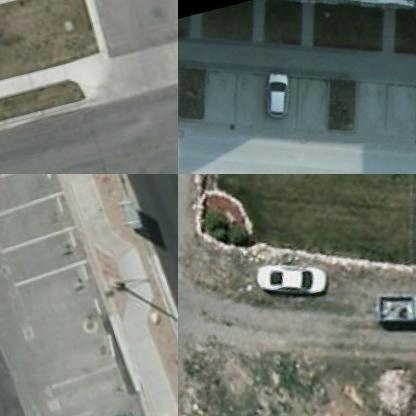car: (250, 249, 334, 309), (260, 68, 302, 123), (178, 56, 192, 116)
pickup: (370, 277, 415, 342)
